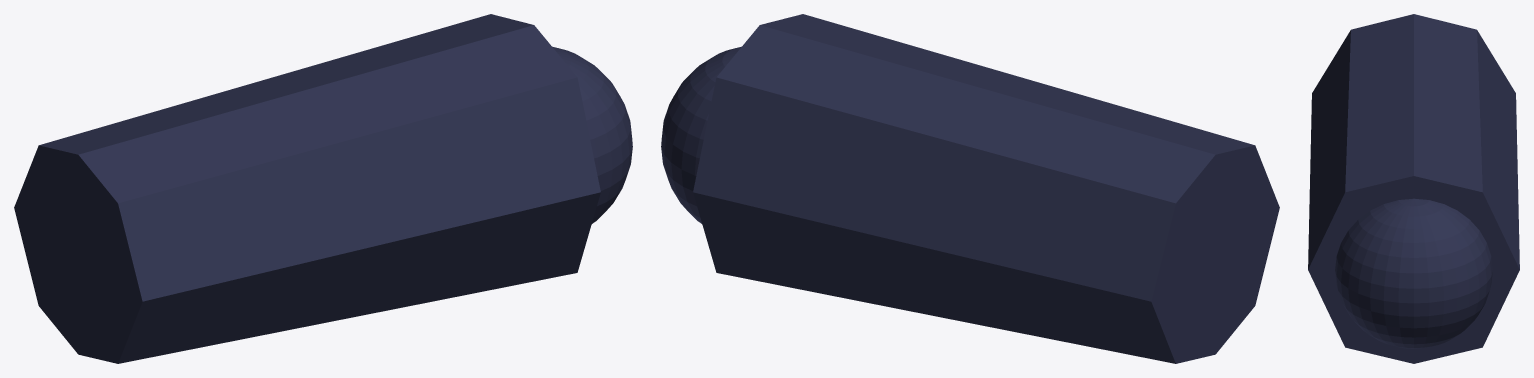
File: R_arm0.obj
3 renders of one model, left to right at view 1: azimuth 30°, elevation 25°; view 2: azimuth 150°, elevation 25°; view 3: azimuth 270°, elevation 25°, orthographic. The views are drawn at different scales.
Visible parts, largest first — view 1: arm0球R_球.003; view 2: arm0球R_球.003; view 3: arm0球R_球.003.
Boxes of the visible parts, x1,y1,x2,y2 form: arm0球R_球.003: (14,14,632,363); arm0球R_球.003: (661,14,1279,363); arm0球R_球.003: (1308,14,1519,363).
Bounding box in the file's own units: 4.69 × 1.96 × 2.
1 material, 1 textured.
